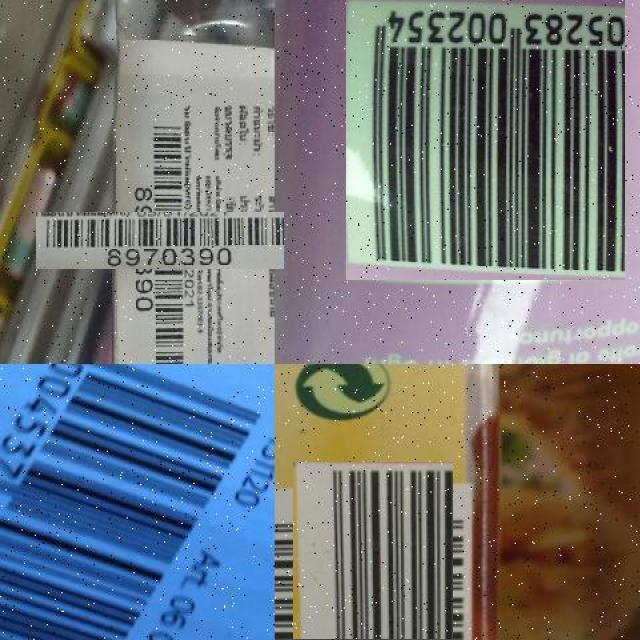Barcode: (346, 0, 626, 280), (0, 364, 275, 640), (284, 470, 462, 640), (83, 164, 237, 316)
